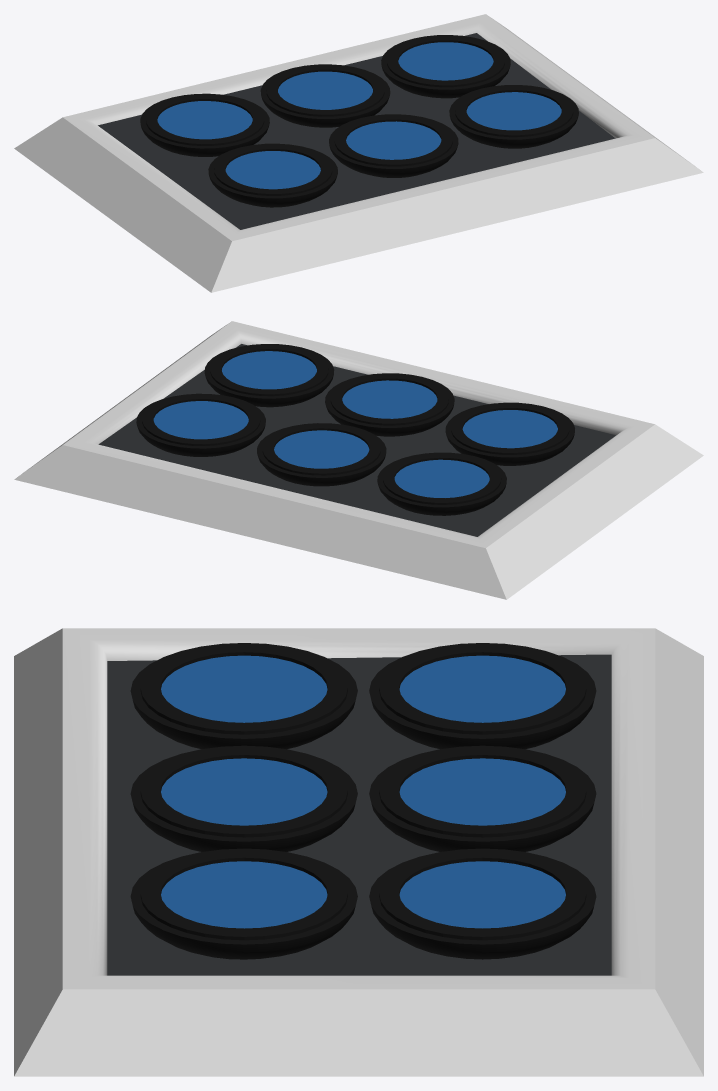
Rendered from 3D_Gaspit.FBX.
The picture shows the model from 3 angles, top to bottom: view 1: azimuth 30°, elevation 25°; view 2: azimuth 150°, elevation 25°; view 3: azimuth 270°, elevation 25°; orthographic projection. The views are drawn at different scales.
Parts seen in each view (by area): view 1: 3D_Gaspit; view 2: 3D_Gaspit; view 3: 3D_Gaspit.
Boxes of the visible parts, x1=… form: 3D_Gaspit: x1=14, y1=14, x2=703, y2=292; 3D_Gaspit: x1=14, y1=321, x2=703, y2=599; 3D_Gaspit: x1=14, y1=628, x2=703, y2=1076.
Bounding box in the file's own units: 203 × 17.5 × 141.
